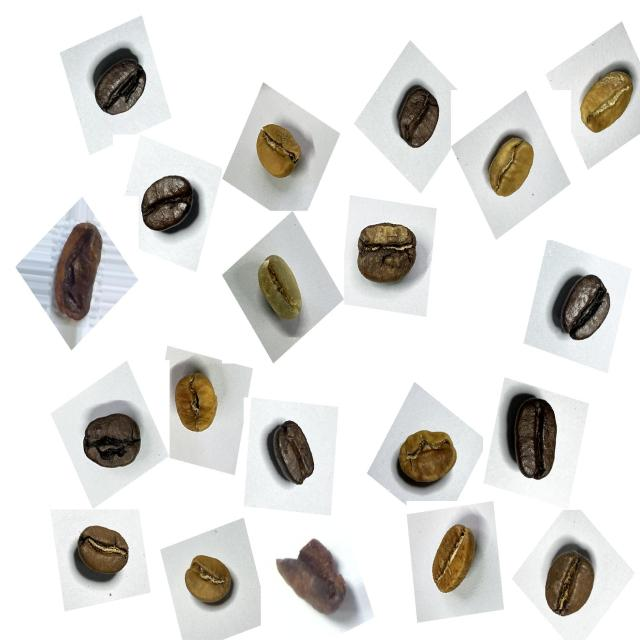bad: (38, 213, 116, 335), (272, 531, 357, 626)
dark: (499, 382, 577, 492), (544, 263, 621, 357), (86, 44, 158, 133), (74, 398, 150, 482), (134, 161, 208, 246), (261, 409, 327, 496)
green: (246, 245, 315, 336)
light: (389, 418, 468, 500), (568, 60, 640, 148), (422, 517, 489, 607), (478, 122, 545, 210), (167, 360, 232, 447), (174, 543, 242, 619), (248, 115, 312, 192)
medium: (345, 210, 425, 300), (534, 540, 606, 629), (68, 516, 139, 593), (388, 79, 449, 161)
